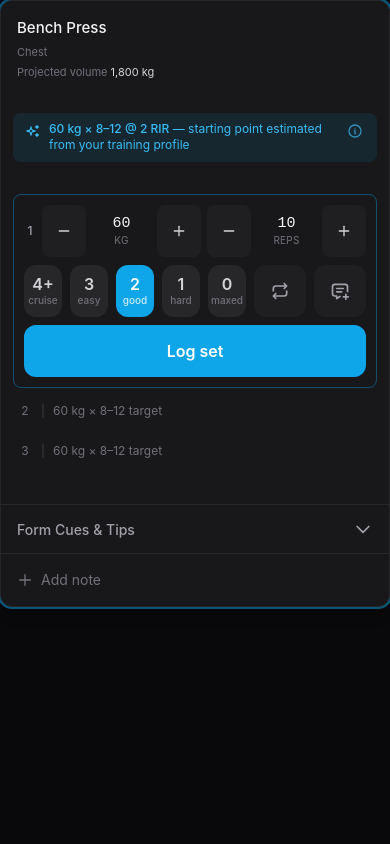
Test: ExerciseCard › One-tap set logging (SetLoggerRow) › weight stepper respects the exercise minWeightIncrementKg
The width and height of the screenshot is (390, 844).
Step 1. Click the button named "Increase weight" → (179, 230), box top-left (157, 204), bottom-right (201, 256)
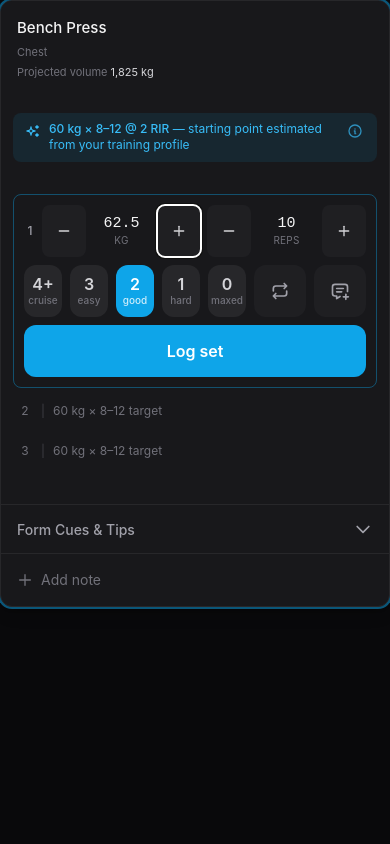
Expected: the button with aria-label "Weight: 62.5 kg" is shown, top-left (88, 204), bottom-right (155, 256)
Step 2. Click the button named "Decrease weight" → (64, 230), box top-left (42, 204), bottom-right (86, 256)
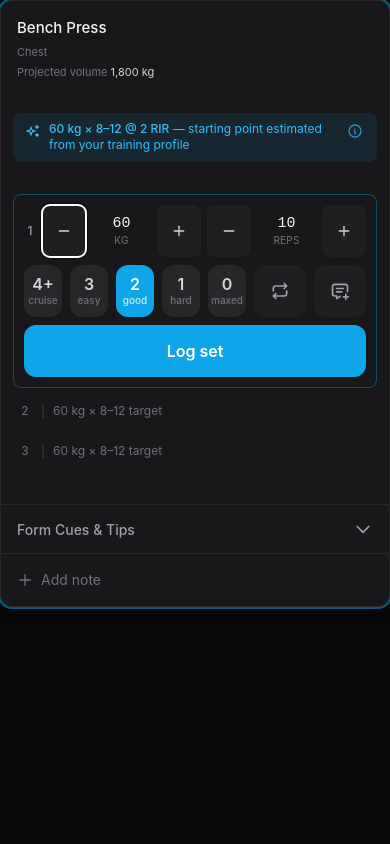
Expected: the button with aria-label "Weight: 60 kg" is shown, top-left (88, 204), bottom-right (155, 256)
